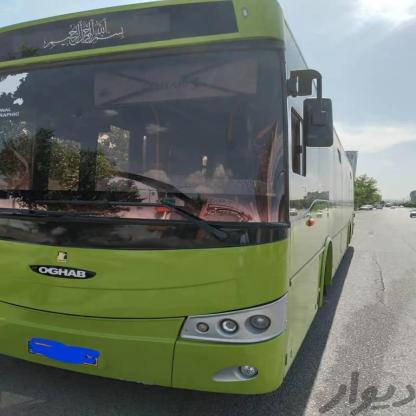Bus: (0, 0, 366, 410)
